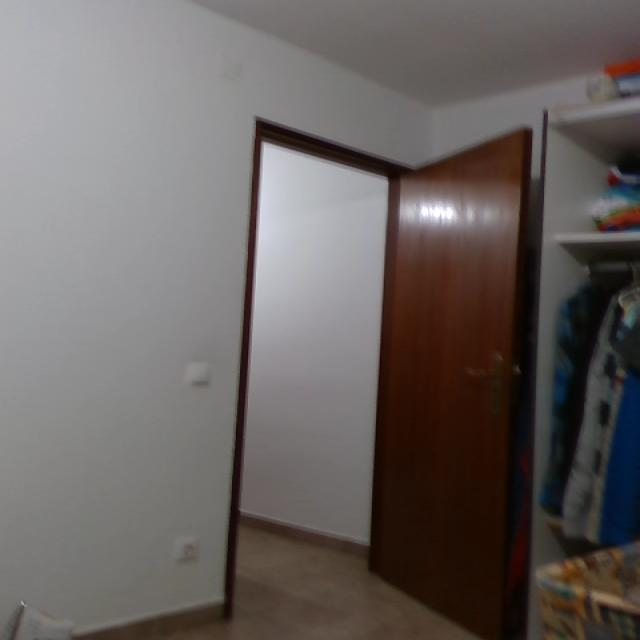door_local: (222, 108, 536, 640)
